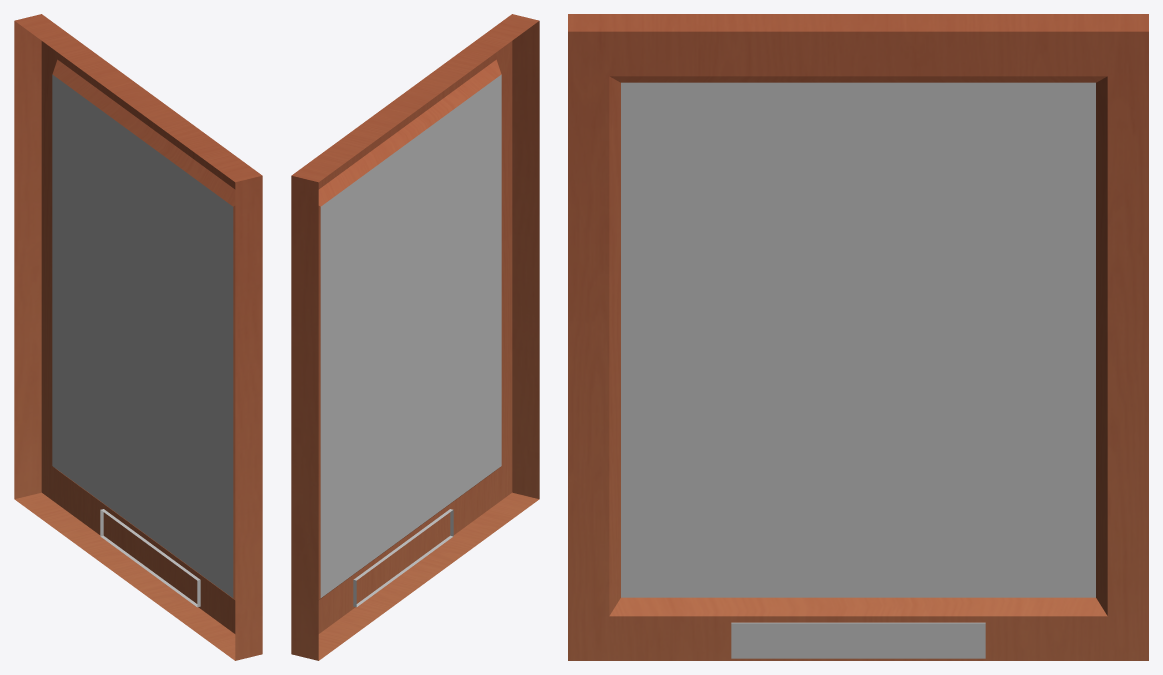
The model's file is Painting.fbx.
3 renders of one model, left to right at view 1: azimuth 30°, elevation 25°; view 2: azimuth 150°, elevation 25°; view 3: azimuth 270°, elevation 25°, orthographic. The views are drawn at different scales.
Parts seen in each view (by area): view 1: pCube101, pCube100, pCube102; view 2: pCube101, pCube100, pCube102; view 3: pCube101, pCube100, pCube102.
Boxes of the visible parts, x1,y1,x2,y2 form: pCube101: (52,74,233,597); pCube100: (14,14,262,660); pCube102: (100,509,200,607); pCube101: (320,74,501,597); pCube100: (291,14,539,660); pCube102: (353,509,453,607); pCube101: (621,82,1095,597); pCube100: (568,14,1148,660); pCube102: (731,622,985,658).
Size of the model in its own units: 0.0646 by 1.04 by 0.8681.
